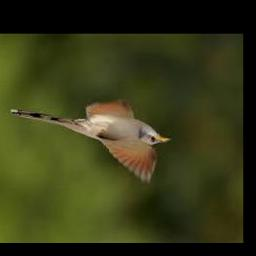Cuckoo: (10, 103, 171, 182)
